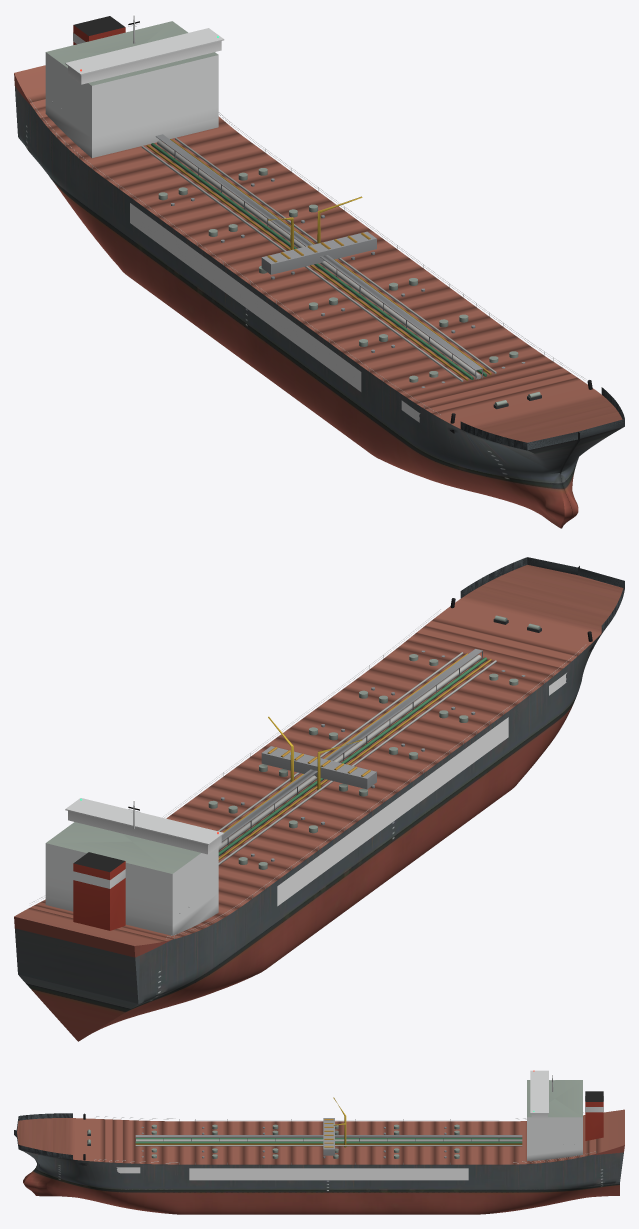
The model's file is tanker.glb.
The picture shows the model from 3 angles, top to bottom: view 1: azimuth 30°, elevation 25°; view 2: azimuth 150°, elevation 25°; view 3: azimuth 270°, elevation 25°; orthographic projection. The views are drawn at different scales.
Visible parts, largest first — view 1: trim, rumpf, rund, name-1; view 2: trim, rumpf, rund, name-1; view 3: trim, rumpf, rund, name1.
Part boxes in pixels (bbox=[...]): trim: bbox=[14, 16, 624, 450]; rumpf: bbox=[14, 73, 623, 528]; rund: bbox=[30, 15, 592, 423]; name-1: bbox=[130, 203, 361, 391]; trim: bbox=[14, 557, 624, 945]; rumpf: bbox=[14, 630, 604, 1041]; rund: bbox=[30, 598, 592, 938]; name-1: bbox=[277, 717, 508, 906]; trim: bbox=[14, 1070, 624, 1165]; rumpf: bbox=[14, 1134, 624, 1214]; rund: bbox=[83, 1075, 596, 1164]; name1: bbox=[189, 1168, 468, 1180].
Bounding box in the file's own units: 44.12 × 57.62 × 262.
8 materials, 1 textured.
